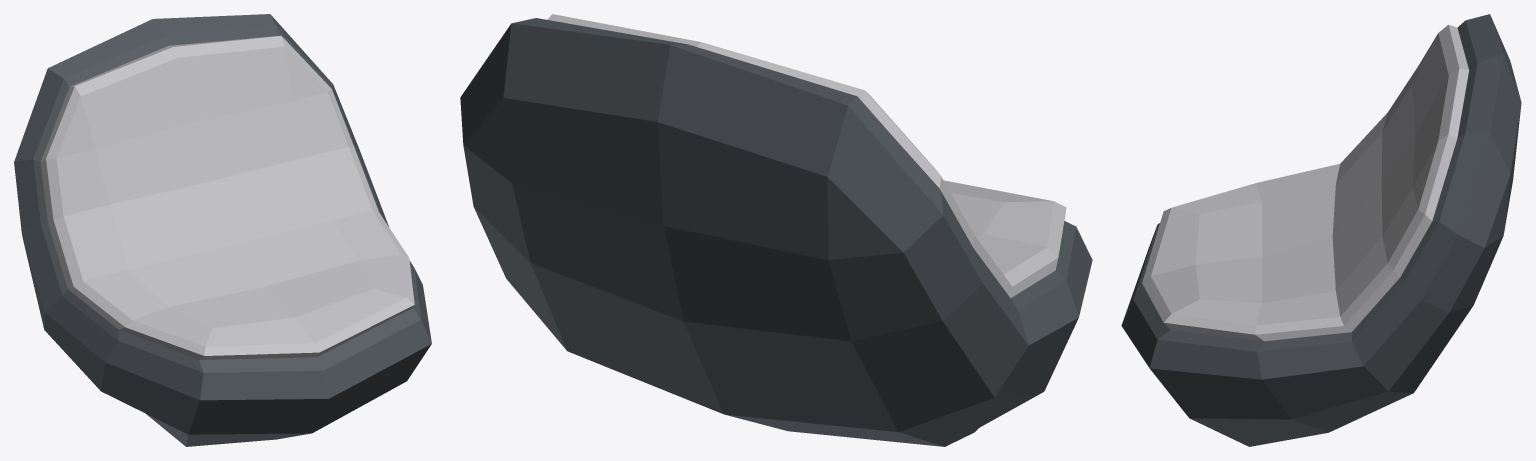
The model's file is Personal_Vehicle_01_Seat.fbx.
3 renders of one model, left to right at view 1: azimuth 30°, elevation 25°; view 2: azimuth 150°, elevation 25°; view 3: azimuth 270°, elevation 25°, orthographic. The views are drawn at different scales.
Visible parts, largest first — view 1: Personal_Vehicle_01_Seat; view 2: Personal_Vehicle_01_Seat; view 3: Personal_Vehicle_01_Seat.
Part boxes in pixels (left/top/right/bottom): Personal_Vehicle_01_Seat: left=14, top=14, right=431, bottom=446; Personal_Vehicle_01_Seat: left=460, top=14, right=1092, bottom=446; Personal_Vehicle_01_Seat: left=1121, top=14, right=1521, bottom=446.
Bounding box in the file's own units: 90.56 × 82.85 × 83.99.
Materials: 1 (1 with a texture image).
